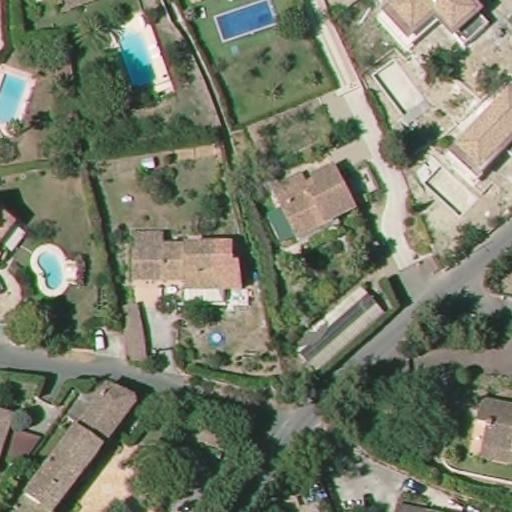pool: (113, 19, 169, 94), (207, 0, 280, 42), (28, 243, 72, 295), (0, 67, 28, 132), (207, 325, 224, 345)
